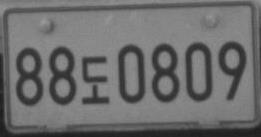0: (184, 40, 214, 101), (117, 43, 146, 103)
8: (150, 41, 180, 103), (14, 46, 44, 106), (48, 45, 77, 105)
9: (218, 40, 247, 101)
도: (81, 55, 110, 104)
